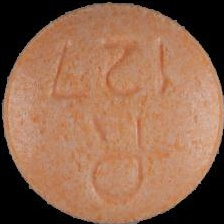16590-266: (0, 0, 224, 224)
